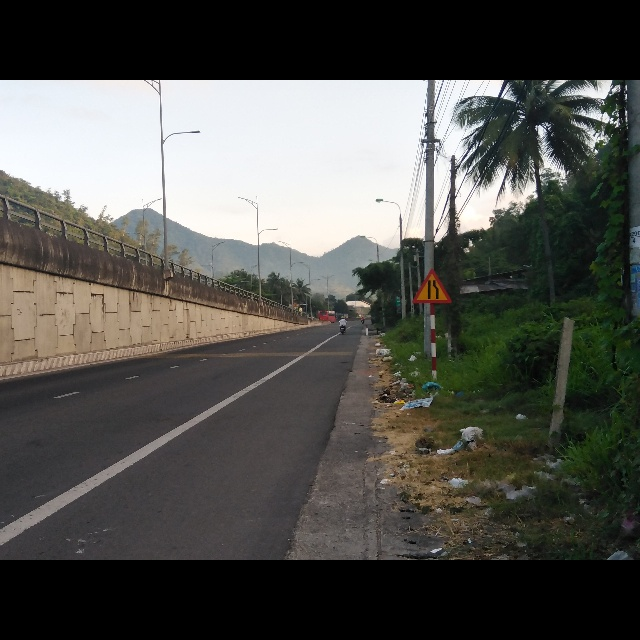Đường bị hẹp bên phải: (413, 269, 452, 304)
